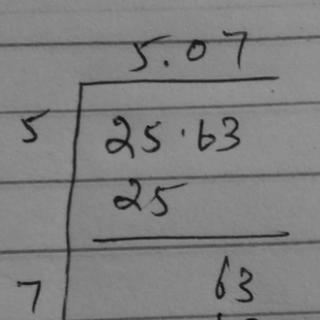.: (177, 124, 190, 138), (159, 57, 172, 69)
0: (186, 37, 209, 65)
2: (109, 178, 145, 213), (108, 114, 134, 159)
3: (218, 113, 239, 159), (235, 266, 255, 304)
5: (14, 106, 55, 145), (132, 33, 169, 74), (147, 184, 182, 221), (146, 121, 166, 154)
6: (207, 256, 233, 299), (194, 118, 215, 150)
7: (15, 278, 48, 317), (220, 29, 250, 71)
